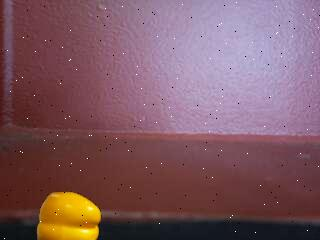Capsicum: (35, 190, 102, 240)
